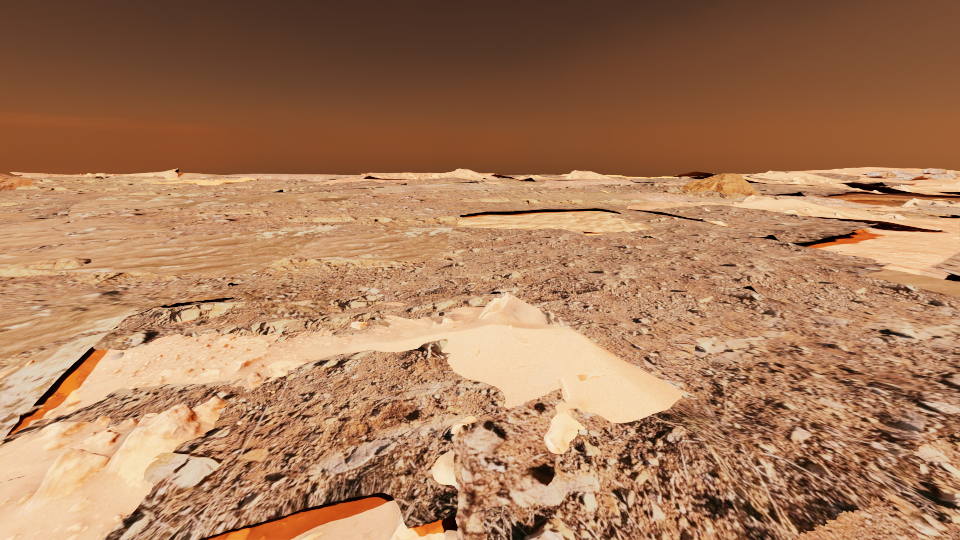bedrock: (0, 205, 959, 539), (0, 339, 506, 539), (548, 176, 748, 201), (258, 177, 557, 193), (749, 183, 856, 206), (451, 194, 647, 206), (278, 214, 459, 226), (0, 201, 84, 224), (857, 201, 959, 218), (812, 173, 914, 185), (31, 175, 165, 183), (14, 185, 180, 191), (234, 175, 348, 183), (188, 209, 305, 216), (110, 191, 188, 195), (745, 175, 783, 181), (22, 405, 44, 414), (312, 194, 350, 197), (222, 185, 272, 187), (354, 254, 387, 257), (539, 174, 567, 177), (503, 175, 530, 177)
hole: (841, 198, 909, 204)
rocks: (683, 173, 758, 195), (861, 168, 959, 180), (0, 174, 32, 190)
sand: (0, 191, 452, 273), (0, 306, 139, 440), (793, 205, 959, 296), (457, 208, 652, 235), (790, 167, 959, 186), (131, 173, 281, 184), (298, 173, 411, 183), (888, 193, 959, 197), (0, 212, 31, 219), (463, 173, 499, 179), (200, 297, 233, 302), (921, 188, 957, 190), (380, 321, 389, 326)
soil: (0, 295, 539, 436), (56, 176, 733, 244), (0, 261, 456, 318), (0, 423, 153, 539), (453, 388, 565, 539), (628, 314, 747, 381), (792, 494, 959, 539), (0, 183, 316, 203), (251, 499, 345, 539), (0, 236, 156, 254), (821, 191, 959, 204), (754, 179, 838, 191), (191, 174, 356, 180), (801, 179, 873, 192), (569, 408, 611, 430), (449, 227, 529, 237), (232, 373, 280, 388), (932, 252, 959, 276), (19, 173, 97, 179), (379, 180, 470, 185), (809, 212, 858, 221), (198, 528, 234, 539), (555, 177, 632, 181), (909, 189, 959, 195), (0, 365, 20, 378), (101, 175, 166, 179), (838, 201, 877, 207), (674, 173, 718, 178), (874, 186, 907, 192), (382, 175, 430, 179), (690, 218, 718, 224), (748, 195, 775, 201), (778, 194, 810, 199), (781, 298, 798, 304), (383, 302, 406, 305), (249, 179, 286, 180)
